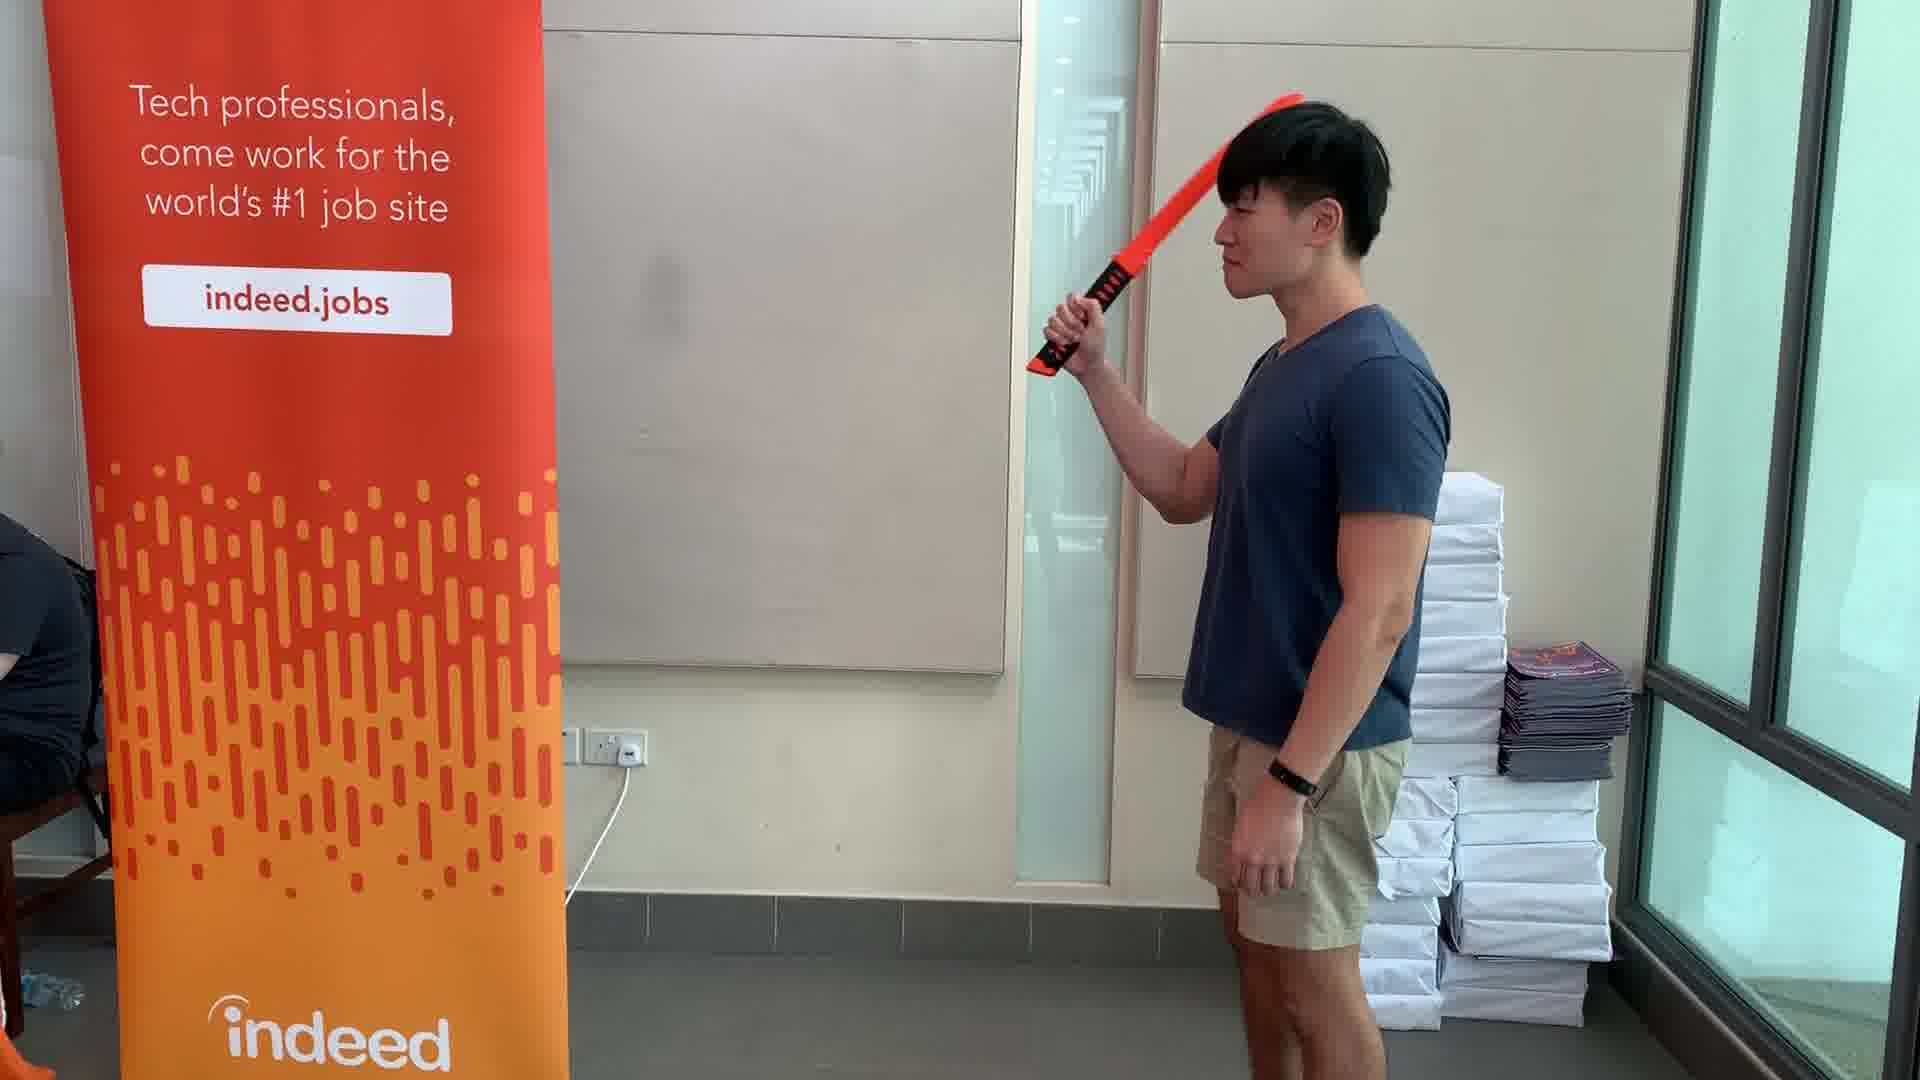knife: (1025, 80, 1316, 390)
